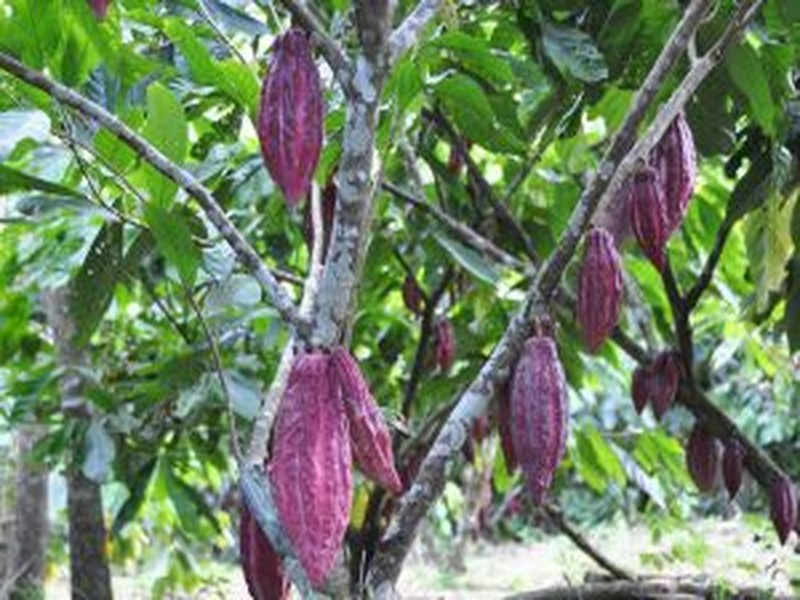Cacaopod: (267, 346, 399, 589), (257, 31, 322, 203)
